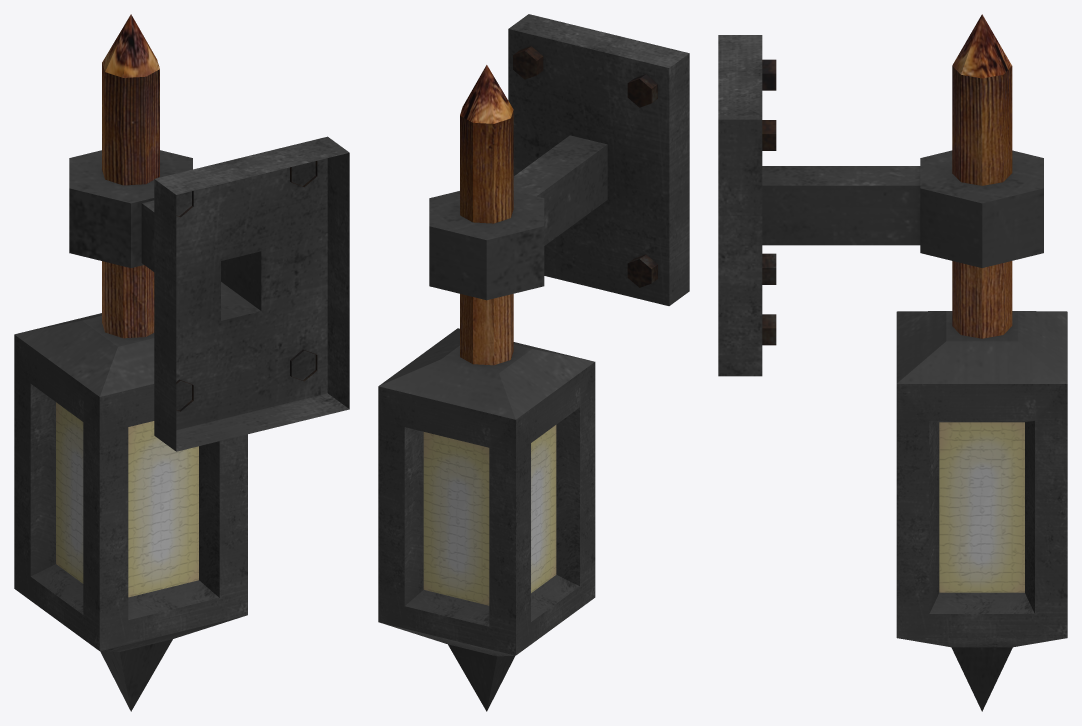
The model's file is lamp.glb.
3 views of the same model, side by side, from view 1: azimuth 30°, elevation 25°; view 2: azimuth 150°, elevation 25°; view 3: azimuth 270°, elevation 25° (orthographic). The views are drawn at different scales.
Visible parts, largest first — view 1: Lamp; view 2: Lamp; view 3: Lamp.
Part boxes in pixels (x1,y1,x2,y2): Lamp: [14, 14, 349, 711]; Lamp: [378, 14, 689, 711]; Lamp: [718, 14, 1067, 711].
Size of the model in its own units: 0.1962 by 0.7546 by 0.3424.
1 material, 1 textured.
